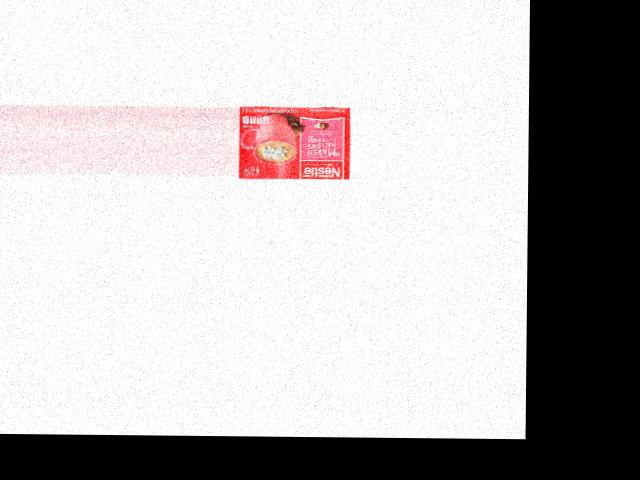chocolate: (237, 102, 347, 177)
